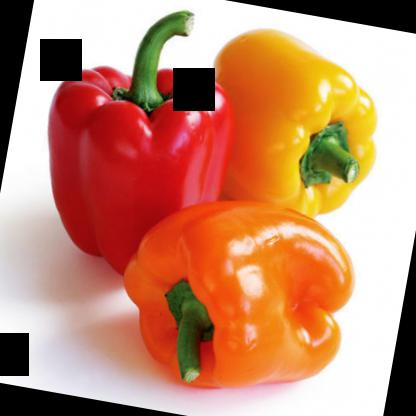bell pepper: (28, 0, 253, 283), (108, 182, 360, 410), (192, 16, 389, 234)
